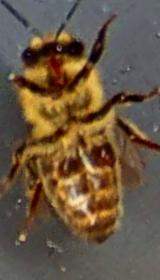varroa_mite: (89, 138, 121, 172)
